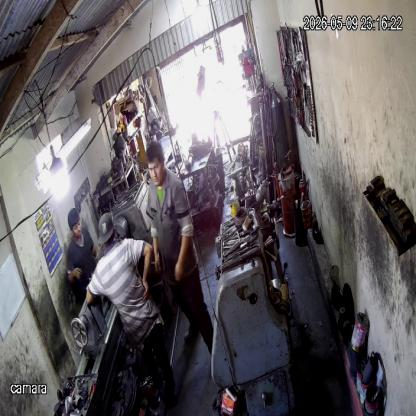sin_lentes: (145, 164, 164, 174), (71, 221, 81, 232)
